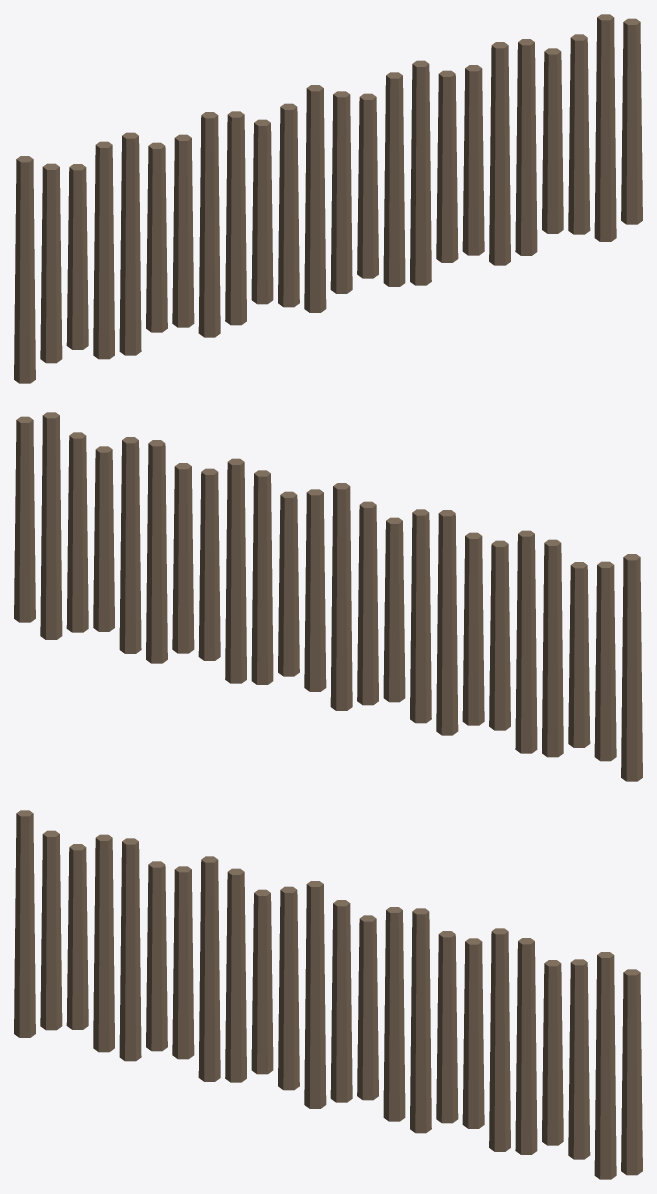
Rendered from palisade.glb.
3 renders of one model, top to bottom at view 1: azimuth 30°, elevation 25°; view 2: azimuth 150°, elevation 25°; view 3: azimuth 330°, elevation 25°, orthographic.
Parts seen in each view (by area): view 1: palisade; view 2: palisade; view 3: palisade.
Boxes of the visible parts, x1,y1,x2,y2 form: palisade: (14, 14, 642, 383); palisade: (14, 412, 642, 781); palisade: (14, 810, 642, 1179).
Size of the model in its own units: 5.91 by 2 by 0.18.
